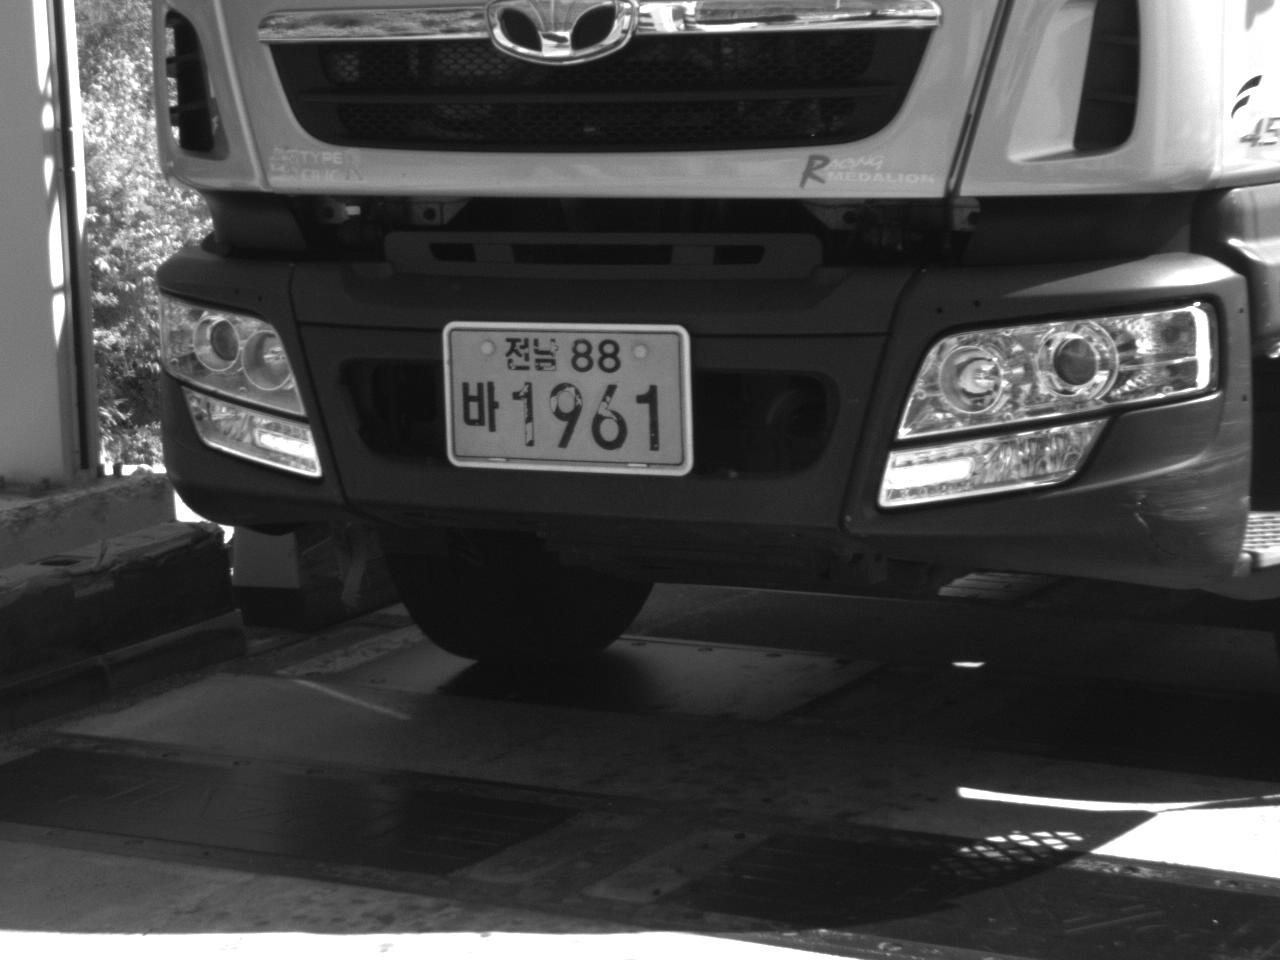car: (137, 1, 1279, 665)
plate: (442, 321, 697, 475)
